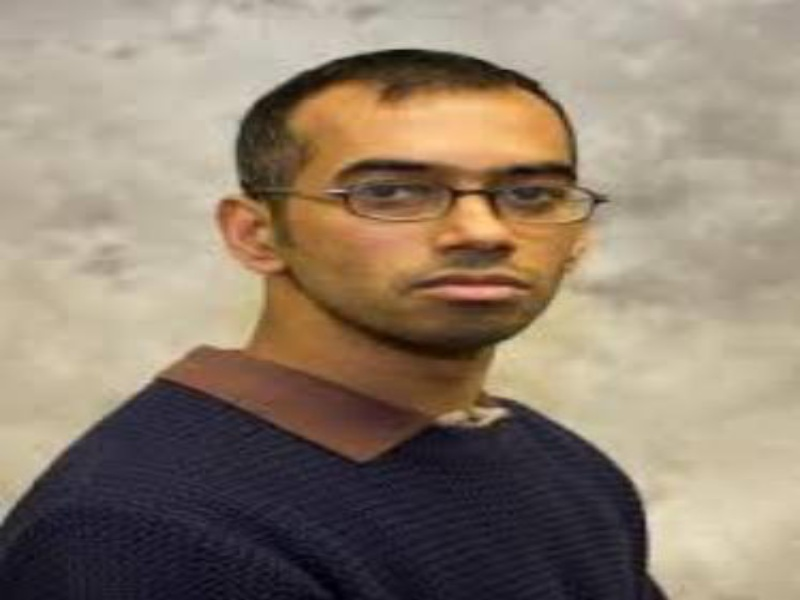TsisyArotava: (213, 56, 636, 360)
